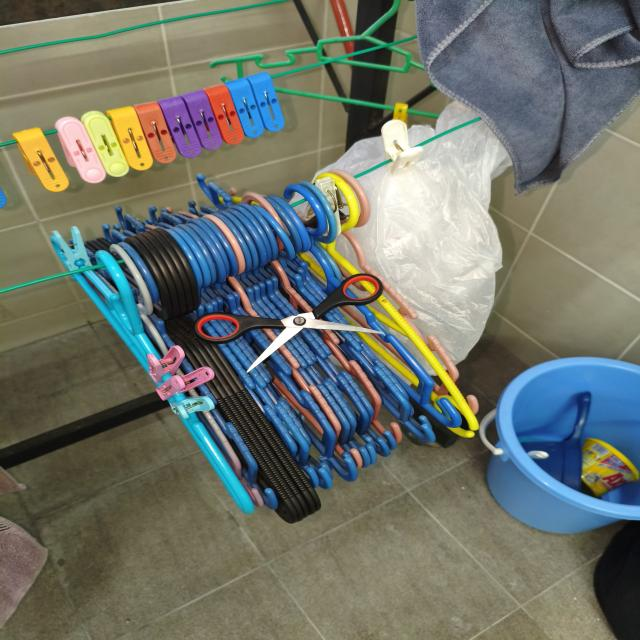scissor: (194, 273, 383, 372)
